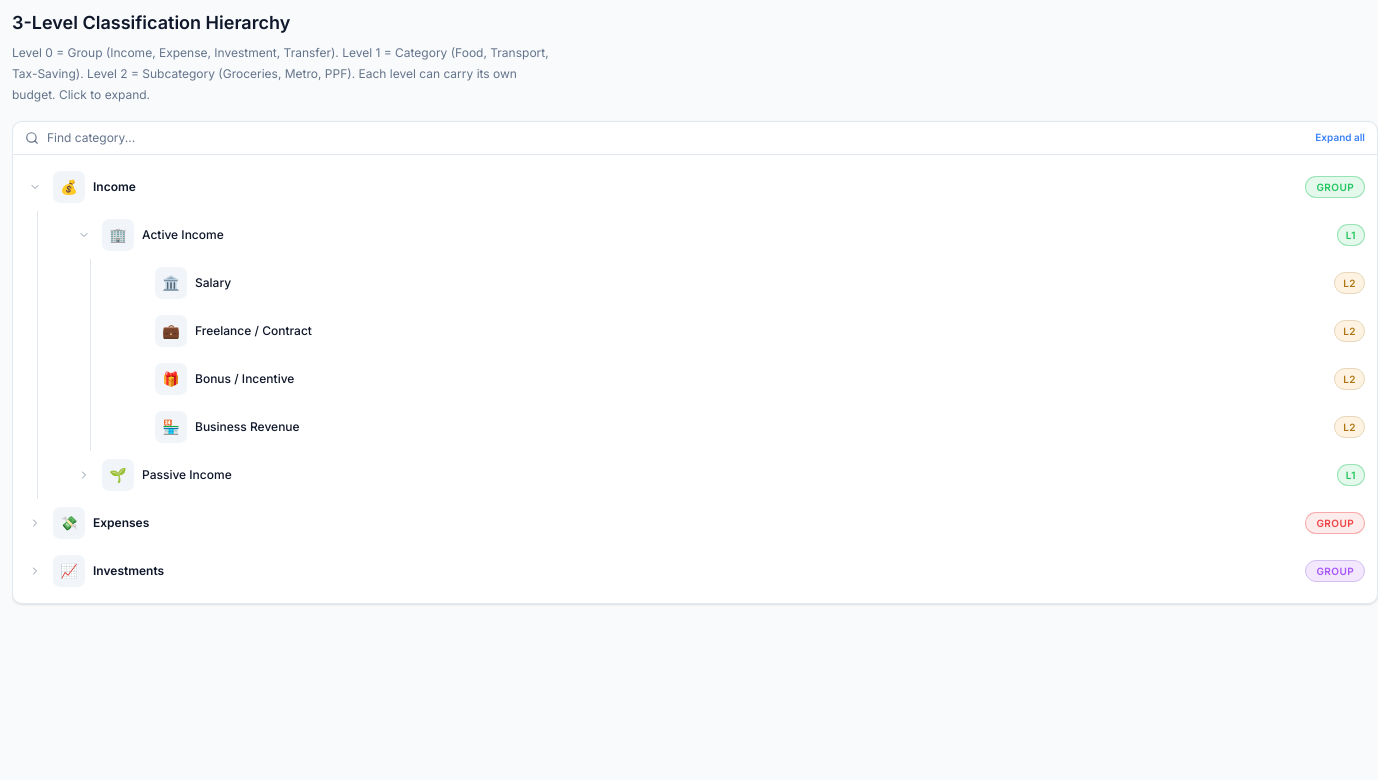
Test: CategoryHierarchy › toggles expand/collapse on disclosure control
expect the text "Salary" is shown: met, box x1=195 y1=274 x2=231 y2=292
Click the button named "Collapse Active Income". click: (84, 235)
box: x1=74 y1=225 x2=94 y2=245
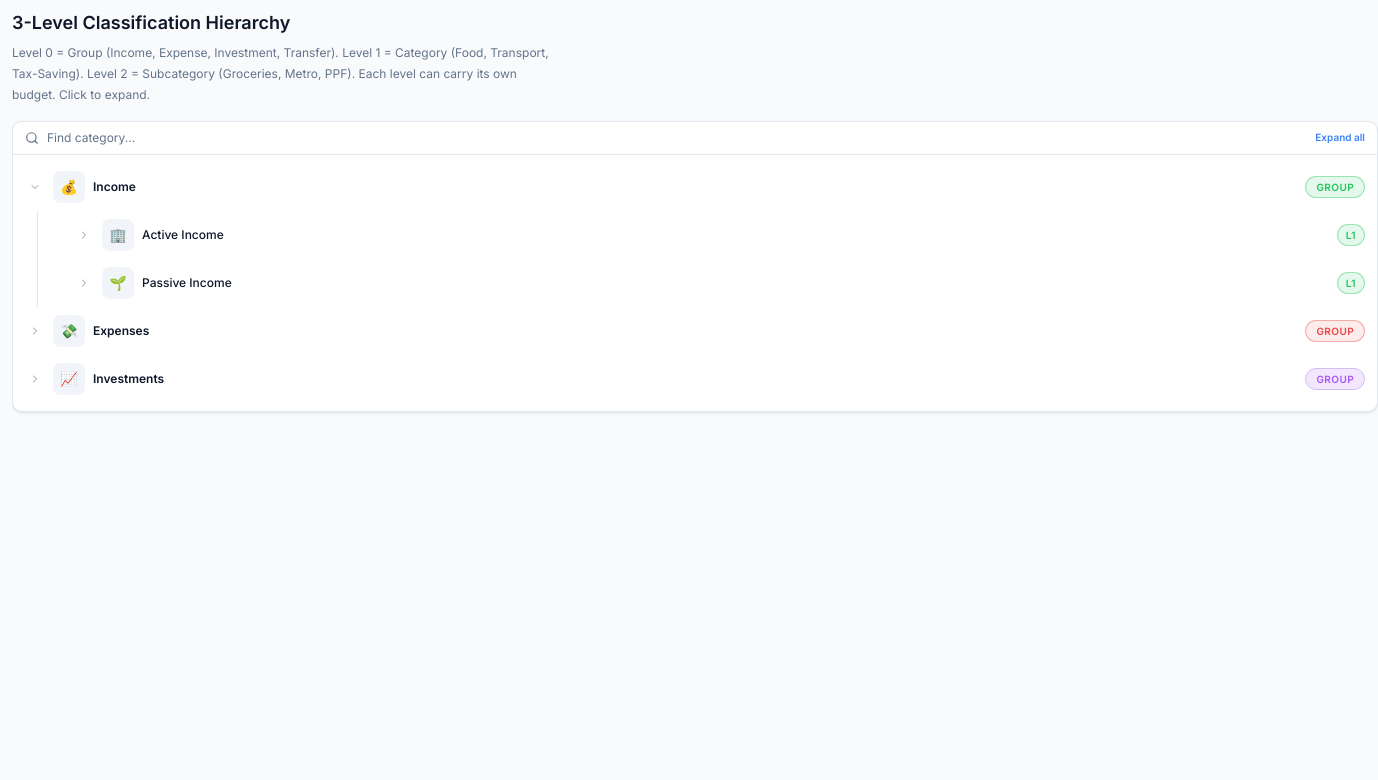
expect the text "Salary" is gone: met
